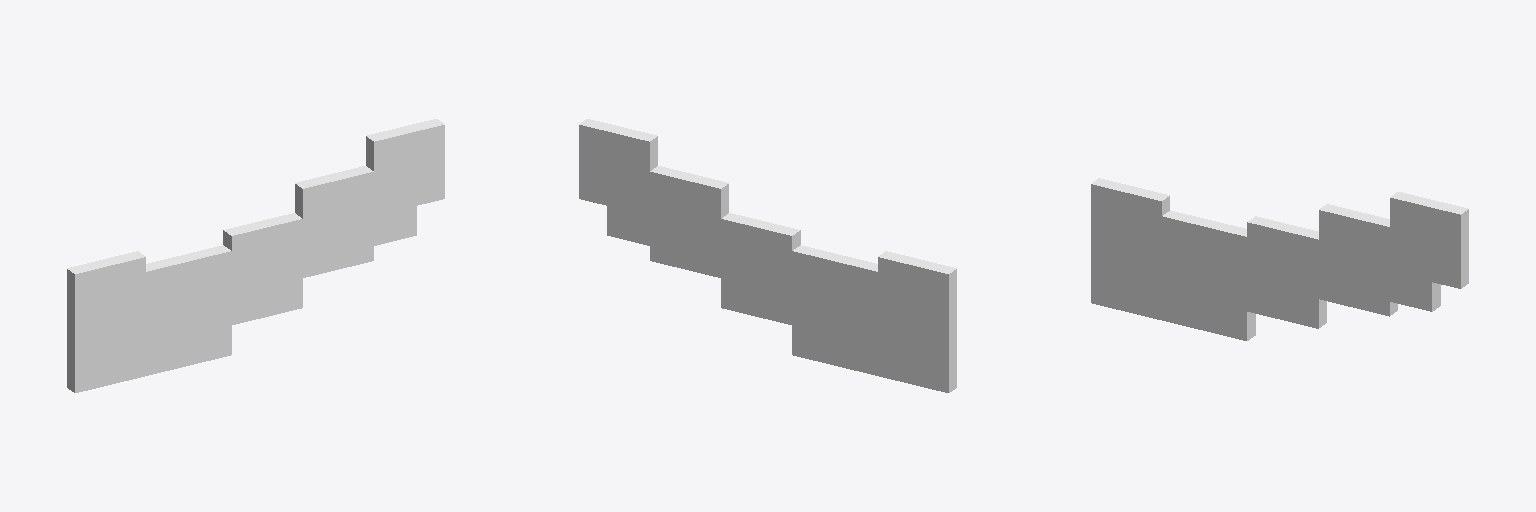
File: kot-2.obj
3 renders of one model, left to right at view 1: azimuth 30°, elevation 25°; view 2: azimuth 150°, elevation 25°; view 3: azimuth 330°, elevation 25°, orthographic.
Parts seen in each view (by area): view 1: object 1; view 2: object 1; view 3: object 1.
Part boxes in pixels (bbox=[...]): object 1: bbox=[67, 119, 444, 392]; object 1: bbox=[579, 119, 956, 392]; object 1: bbox=[1091, 178, 1468, 340].
Bounding box in the file's own units: 2.6 × 1.2 × 0.1.